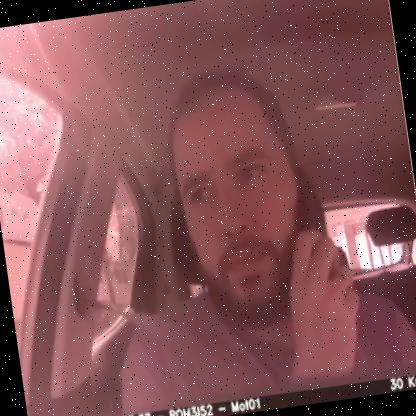phone: (279, 154, 342, 298)
